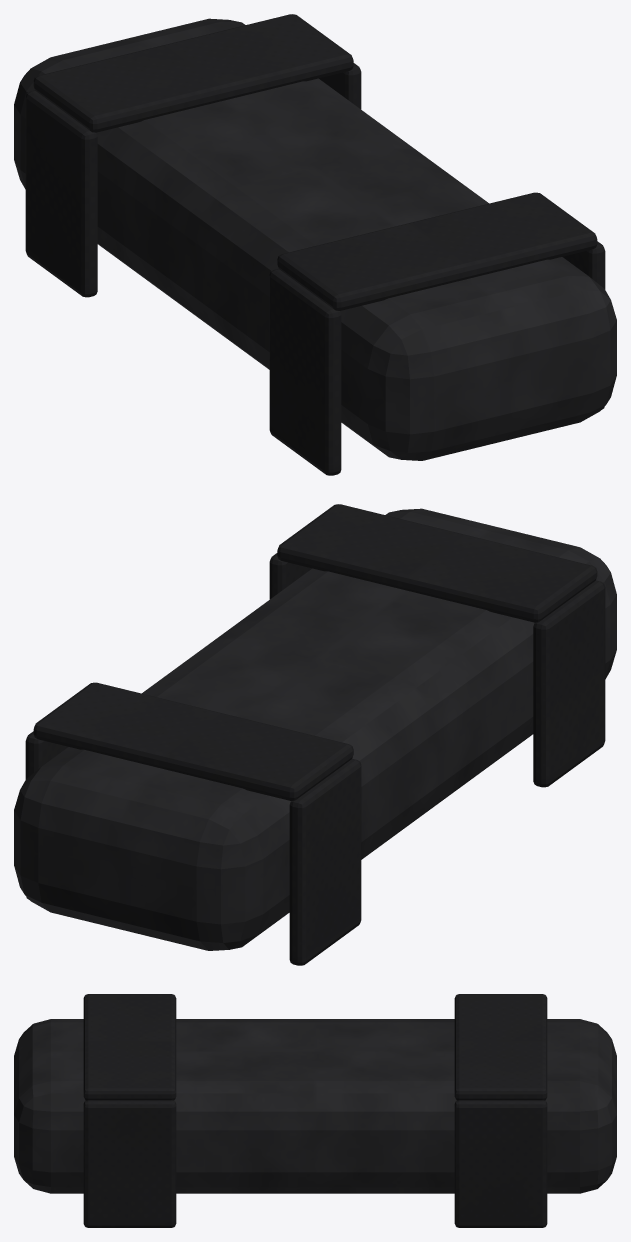
Rendered from cheek_pad.glb.
3 views of the same model, one above another, from view 1: azimuth 30°, elevation 25°; view 2: azimuth 150°, elevation 25°; view 3: azimuth 270°, elevation 25° (orthographic). The views are drawn at different scales.
Parts seen in each view (by area): view 1: pad, strap1, strap0, strap0_-1, strap1_-1, strap0_1, strap1_1; view 2: pad, strap0, strap1, strap0_-1, strap1_-1, strap1_1, strap0_1; view 3: pad, strap0_1, strap1_1, strap0, strap1.
Part boxes in pixels (box(x1,y1,x2,y2)): pad: box(14, 18, 616, 460); strap1: box(33, 14, 353, 132); strap0: box(277, 192, 597, 310); strap0_-1: box(269, 268, 341, 475); strap1_-1: box(25, 90, 97, 297); strap0_1: box(562, 241, 605, 409); strap1_1: box(319, 63, 361, 109); pad: box(14, 508, 616, 950); strap0: box(277, 504, 597, 622); strap1: box(33, 682, 353, 800); strap0_-1: box(533, 580, 605, 787); strap1_-1: box(289, 758, 361, 965); strap1_1: box(25, 731, 68, 899); strap0_1: box(269, 553, 311, 599); pad: box(14, 1019, 616, 1193); strap0_1: box(83, 1100, 176, 1227); strap1_1: box(454, 1100, 547, 1227); strap0: box(83, 994, 176, 1100); strap1: box(454, 994, 547, 1100).
Size of the model in its own units: 0.053 by 0.0325 by 0.13.
2 materials, 2 textured.
